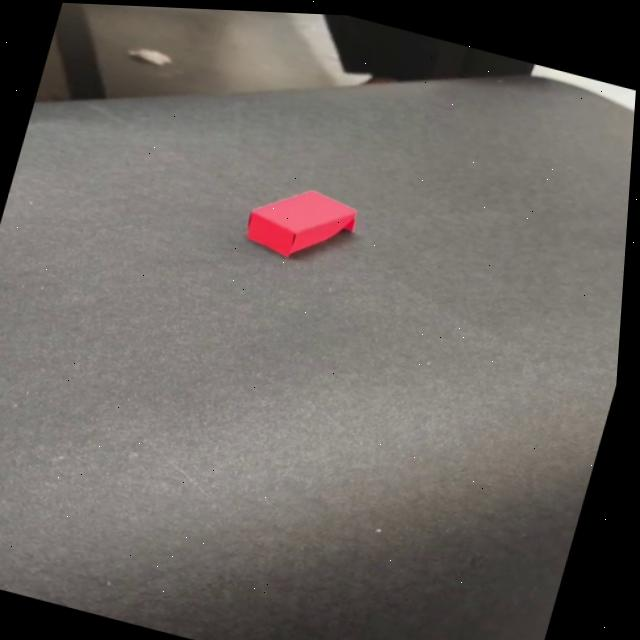red block: (237, 173, 362, 270)
